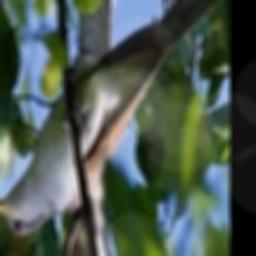Cuckoo: (0, 0, 225, 239)
